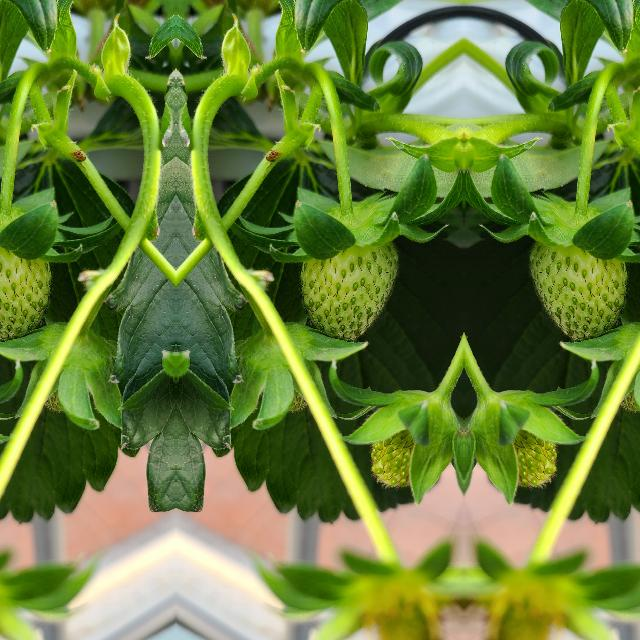Health_25: (296, 241, 398, 341), (528, 241, 630, 341), (370, 392, 454, 496), (472, 392, 556, 496), (0, 241, 54, 341)
